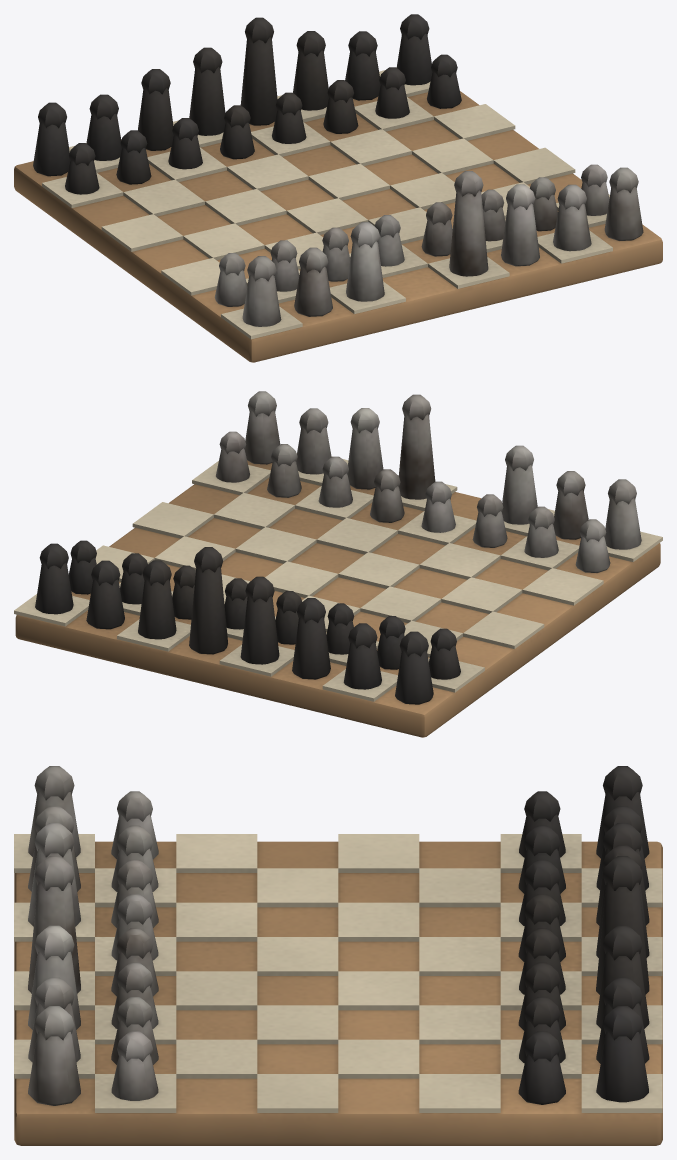
The model's file is g67_pz_chess.glb.
3 renders of one model, top to bottom at view 1: azimuth 30°, elevation 25°; view 2: azimuth 150°, elevation 25°; view 3: azimuth 270°, elevation 25°, orthographic. The views are drawn at different scales.
Parts seen in each view (by area): view 1: g67_pz_chess; view 2: g67_pz_chess; view 3: g67_pz_chess.
Part boxes in pixels (x1=…): g67_pz_chess: x1=14, y1=14, x2=662, y2=362; g67_pz_chess: x1=14, y1=391, x2=662, y2=737; g67_pz_chess: x1=14, y1=766, x2=662, y2=1145.
Size of the model in its own units: 0.5002 by 0.1454 by 0.5002.
Materials: 1 (1 with a texture image).
